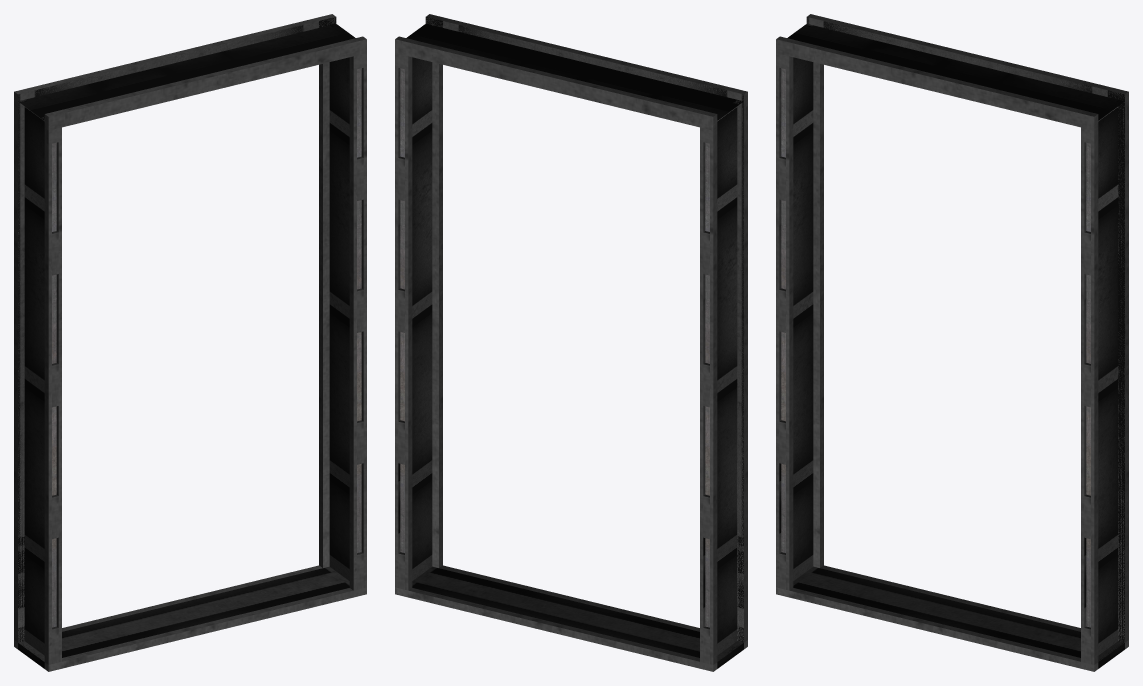
File: DoorFrame.fbx
3 views of the same model, side by side, from view 1: azimuth 30°, elevation 25°; view 2: azimuth 150°, elevation 25°; view 3: azimuth 330°, elevation 25° (orthographic).
Parts seen in each view (by area): view 1: Scene_Root (×2); view 2: Scene_Root (×2); view 3: Scene_Root (×2).
Part boxes in pixels (box(x1,y1,x2,y2)): Scene_Root (×2): box(14, 14, 366, 671); Scene_Root (×2): box(395, 14, 747, 671); Scene_Root (×2): box(776, 14, 1128, 671).
Size of the model in its own units: 192 by 320 by 36.
2 materials, 2 textured.
